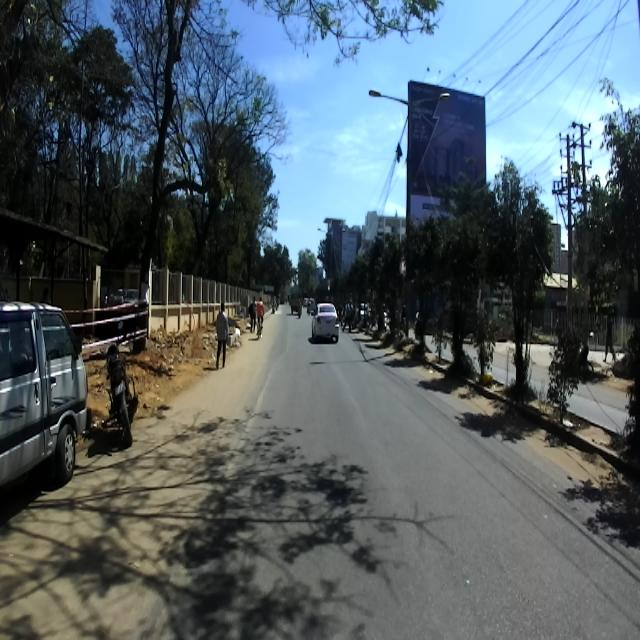car ahead at: (2, 299, 91, 503)
motorcycle ahead at: (104, 336, 138, 438)
person ahead at: (210, 290, 232, 378), (248, 299, 268, 338)
